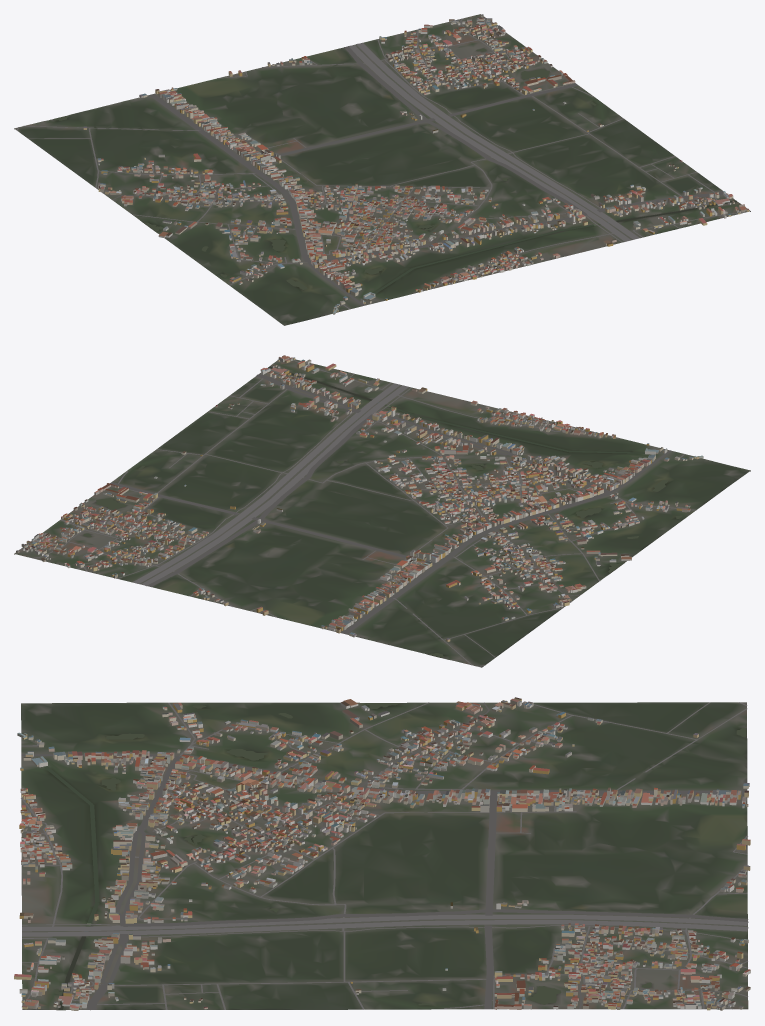
3 renders of one model, top to bottom at view 1: azimuth 30°, elevation 25°; view 2: azimuth 150°, elevation 25°; view 3: azimuth 270°, elevation 25°, orthographic. The views are drawn at different scales.
Parts seen in each view (by area): view 1: ground, buildings, roads, water; view 2: ground, buildings, roads, water; view 3: ground, buildings, roads, water.
Part boxes in pixels (box(x1,y1,x2,y2)): ground: box(14, 14, 750, 325); buildings: box(83, 14, 749, 314); roads: box(16, 18, 746, 309); water: box(50, 48, 736, 293); ground: box(14, 359, 750, 667); buildings: box(16, 355, 703, 641); roads: box(19, 360, 696, 666); water: box(83, 366, 682, 658); ground: box(21, 702, 748, 1010); buildings: box(14, 697, 750, 1010); roads: box(21, 702, 748, 1010); water: box(43, 703, 746, 1009).
Size of the model in its own units: 1417 by 21.8 by 1423.
